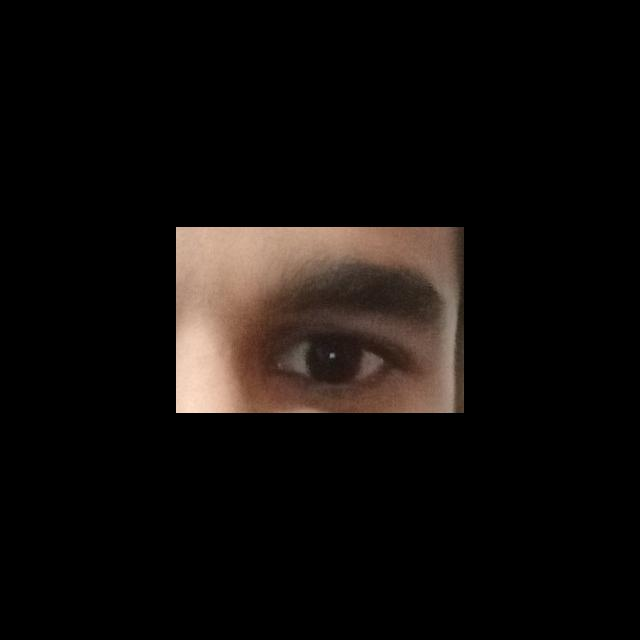eye: (279, 335, 390, 385)
iris: (307, 336, 364, 383)
